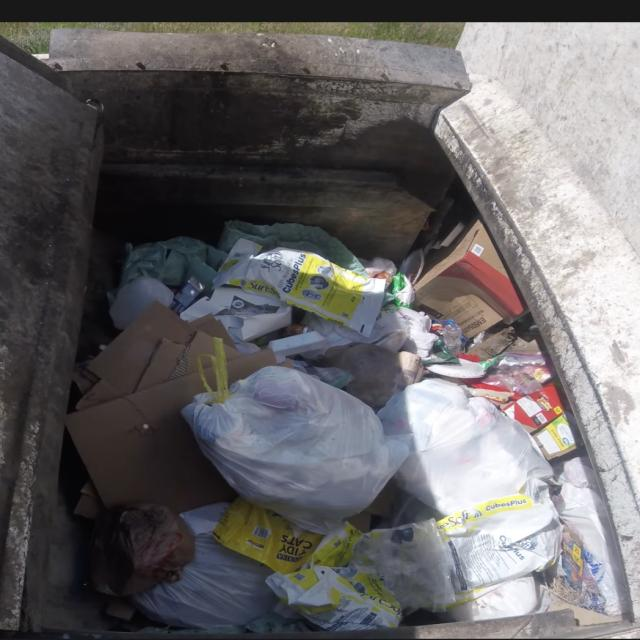bag: (182, 343, 406, 523), (374, 351, 562, 528)
cardboard: (364, 213, 525, 350)
paper: (70, 296, 251, 520), (166, 215, 448, 335), (202, 499, 404, 637)
